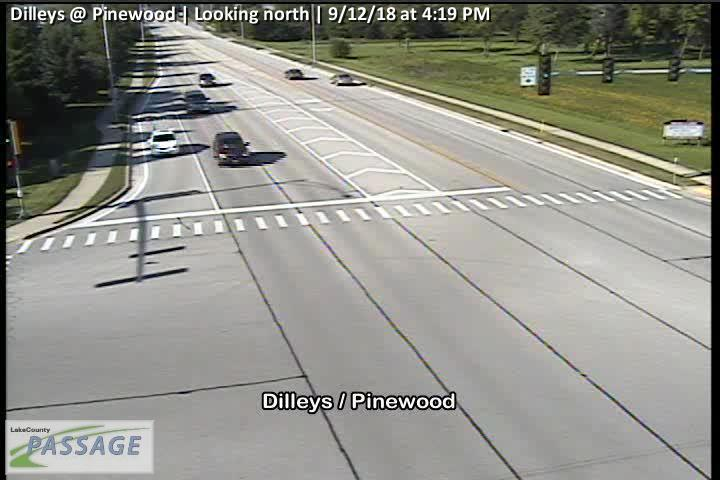SUV: (214, 132, 251, 166)
Sedan: (150, 130, 179, 156), (186, 90, 211, 115), (329, 73, 352, 85), (199, 74, 216, 87), (284, 69, 304, 80)
